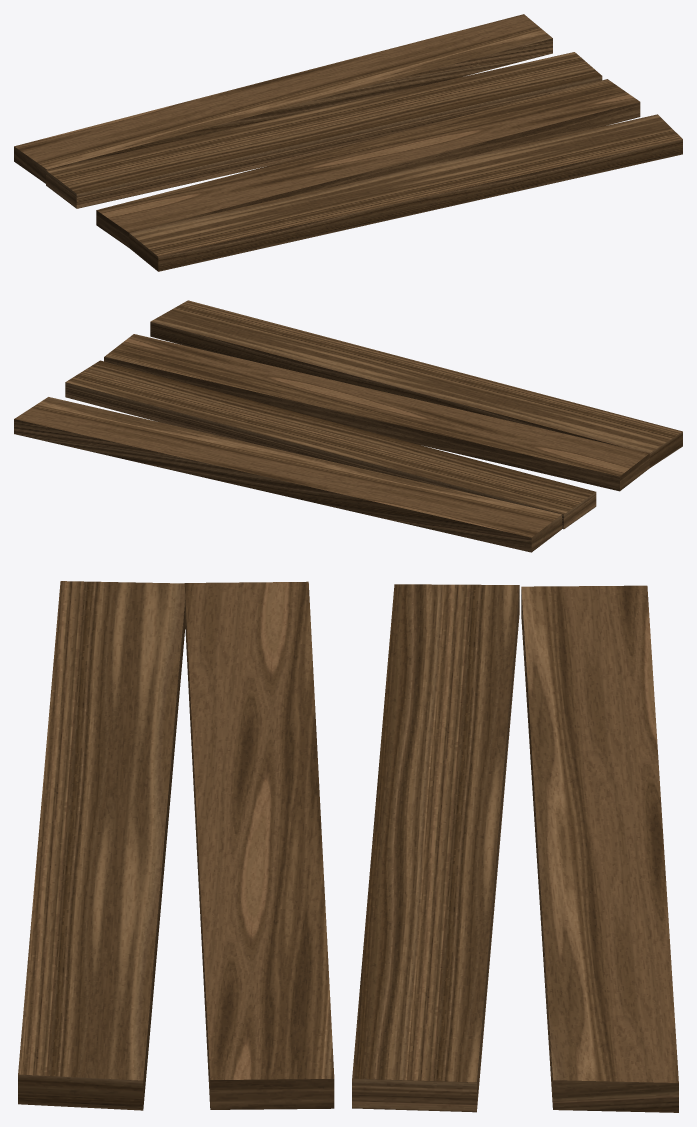
The model's file is Wooden6.obj.
The picture shows the model from 3 angles, top to bottom: view 1: azimuth 30°, elevation 25°; view 2: azimuth 150°, elevation 25°; view 3: azimuth 270°, elevation 25°; orthographic projection. The views are drawn at different scales.
Parts seen in each view (by area): view 1: Wooden_33.001_Cube.053; view 2: Wooden_33.001_Cube.053; view 3: Wooden_33.001_Cube.053.
Boxes of the visible parts, bbox=[...] form: Wooden_33.001_Cube.053: bbox=[14, 14, 682, 271]; Wooden_33.001_Cube.053: bbox=[14, 300, 682, 552]; Wooden_33.001_Cube.053: bbox=[18, 581, 678, 1112].
Size of the model in its own units: 4.65 by 0.1301 by 2.59.
